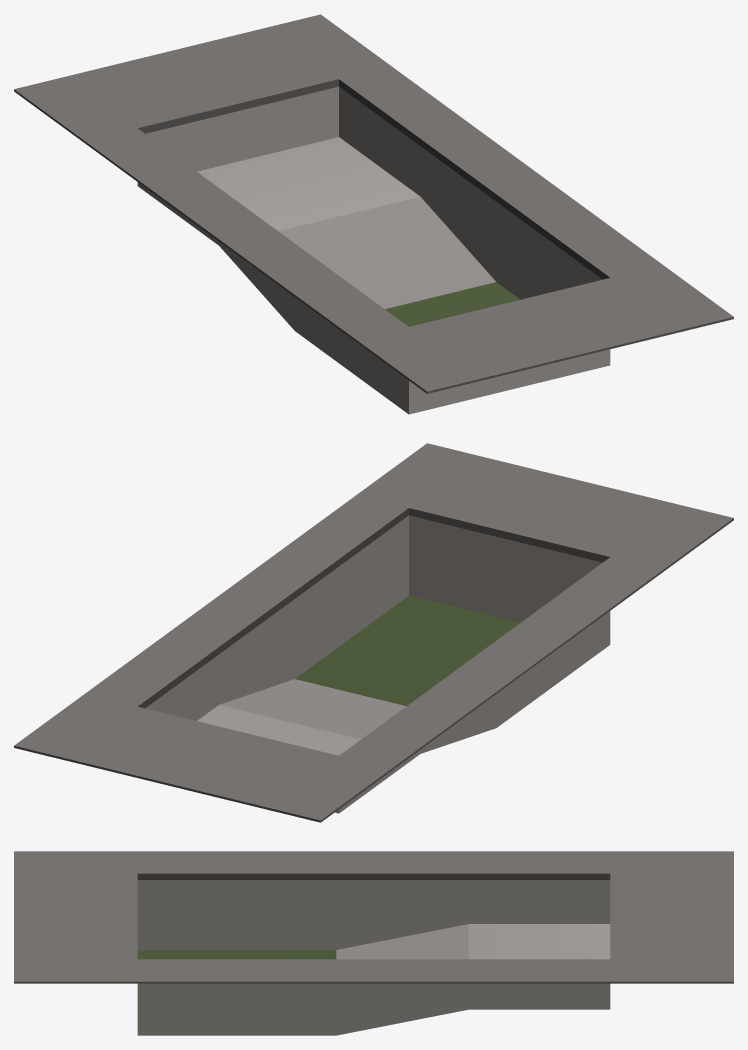
Rendered from SA_Env_Pool_01.gltf.
3 renders of one model, top to bottom at view 1: azimuth 30°, elevation 25°; view 2: azimuth 150°, elevation 25°; view 3: azimuth 270°, elevation 25°, orthographic. The views are drawn at different scales.
Parts seen in each view (by area): view 1: SA_Env_Pool_01; view 2: SA_Env_Pool_01; view 3: SA_Env_Pool_01.
Part boxes in pixels (x1,y1,x2,y2): SA_Env_Pool_01: [14, 14, 733, 414]; SA_Env_Pool_01: [14, 443, 733, 822]; SA_Env_Pool_01: [14, 851, 733, 1035].
Bounding box in the file's own units: 15 × 4.09 × 35.
Materials: 1 (1 with a texture image).
